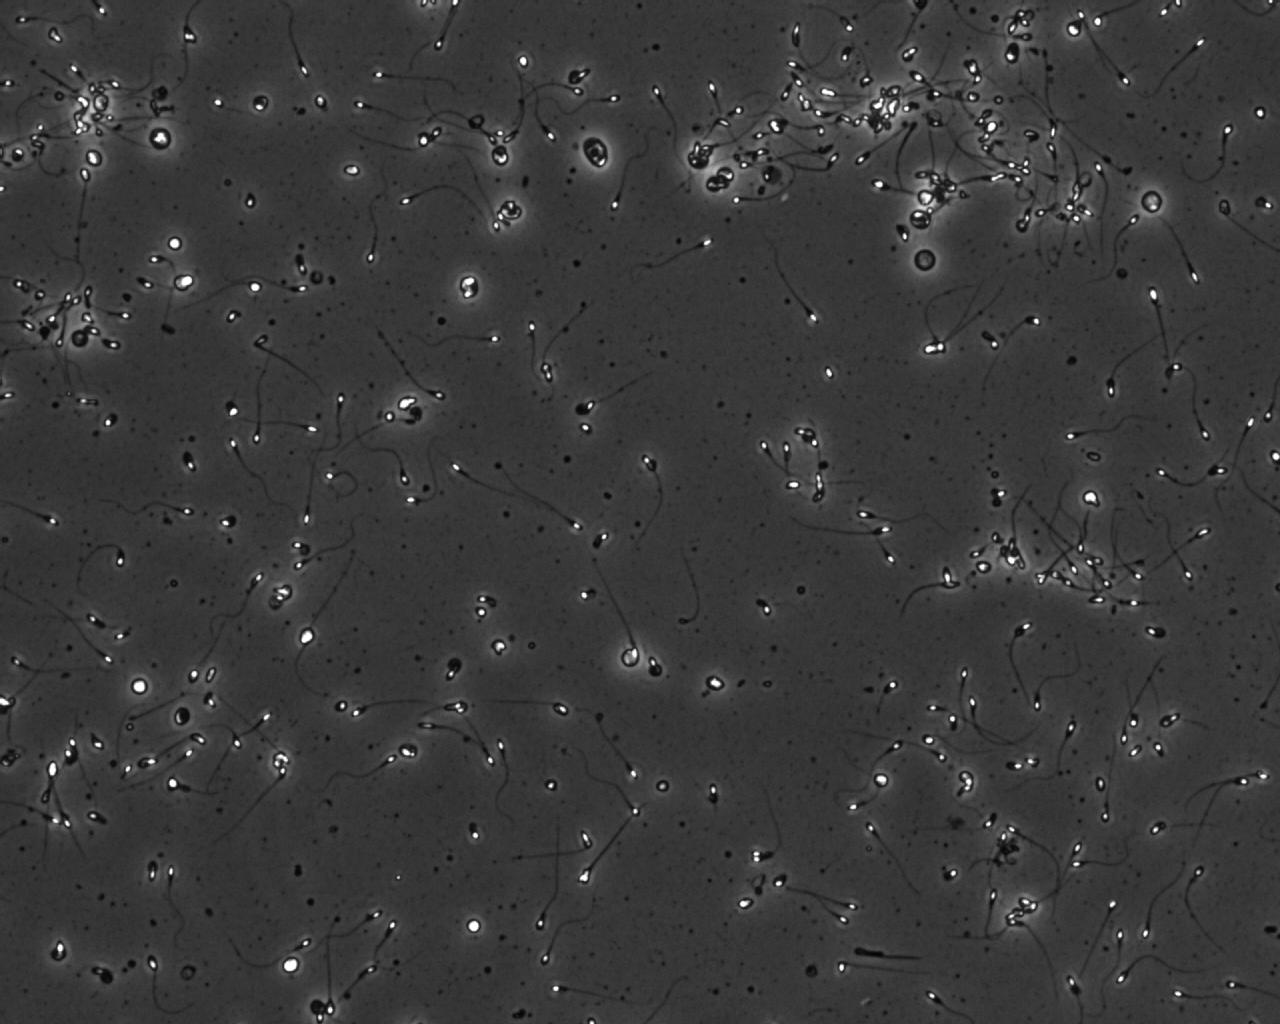cell: (576, 131, 614, 174), (145, 123, 176, 154), (910, 245, 940, 275), (453, 271, 483, 302), (683, 145, 714, 174), (1137, 187, 1166, 217), (905, 205, 935, 233), (496, 196, 526, 224), (487, 142, 514, 170), (701, 171, 728, 197), (66, 325, 92, 352), (616, 645, 644, 671), (169, 703, 195, 730), (88, 90, 113, 116), (913, 184, 938, 209), (248, 91, 273, 115), (127, 674, 152, 699), (278, 953, 303, 977), (462, 914, 486, 938), (713, 163, 738, 185)
